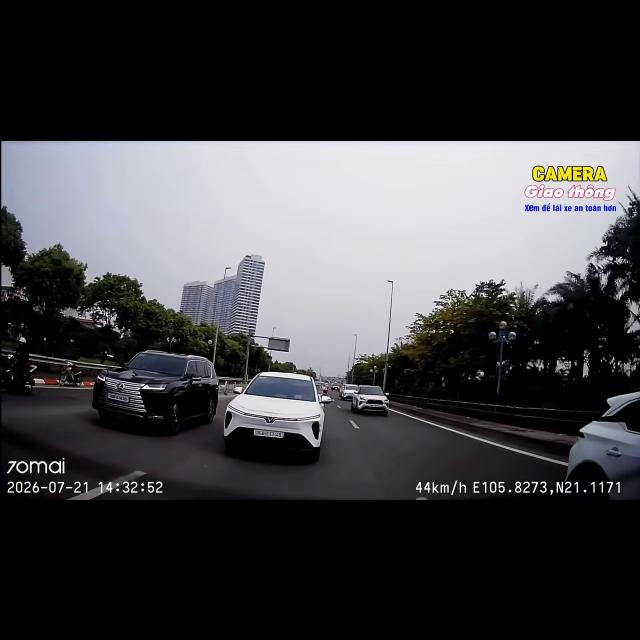car: (92, 350, 218, 434), (223, 372, 332, 461), (566, 392, 639, 499), (351, 386, 389, 415), (340, 384, 357, 400), (315, 382, 323, 395), (331, 384, 339, 391), (323, 384, 328, 394)
motorcycle: (0, 355, 36, 394), (58, 361, 81, 386)
